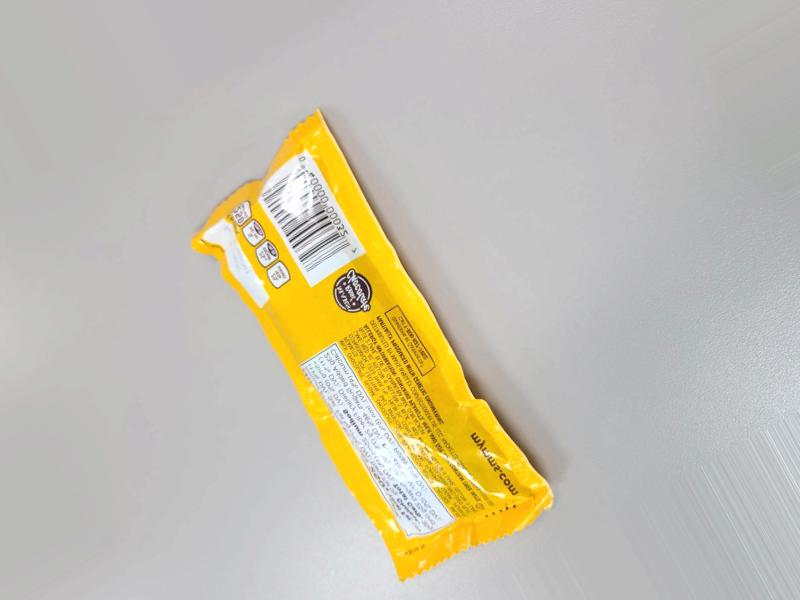m&m: (173, 109, 553, 595)
